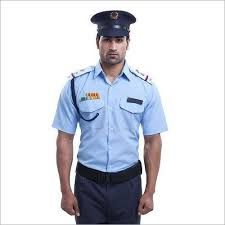uniform: (69, 64, 150, 205)
